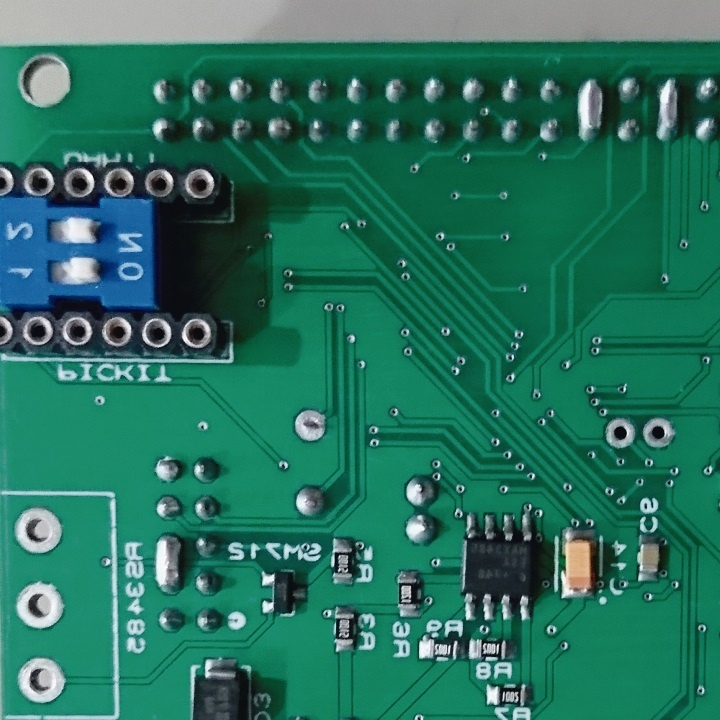F: (8, 504, 69, 558), (11, 578, 68, 632), (15, 655, 68, 708), (291, 406, 330, 445), (640, 415, 677, 455), (603, 416, 636, 452)
P: (573, 75, 607, 145), (150, 531, 185, 598), (652, 73, 681, 147)
